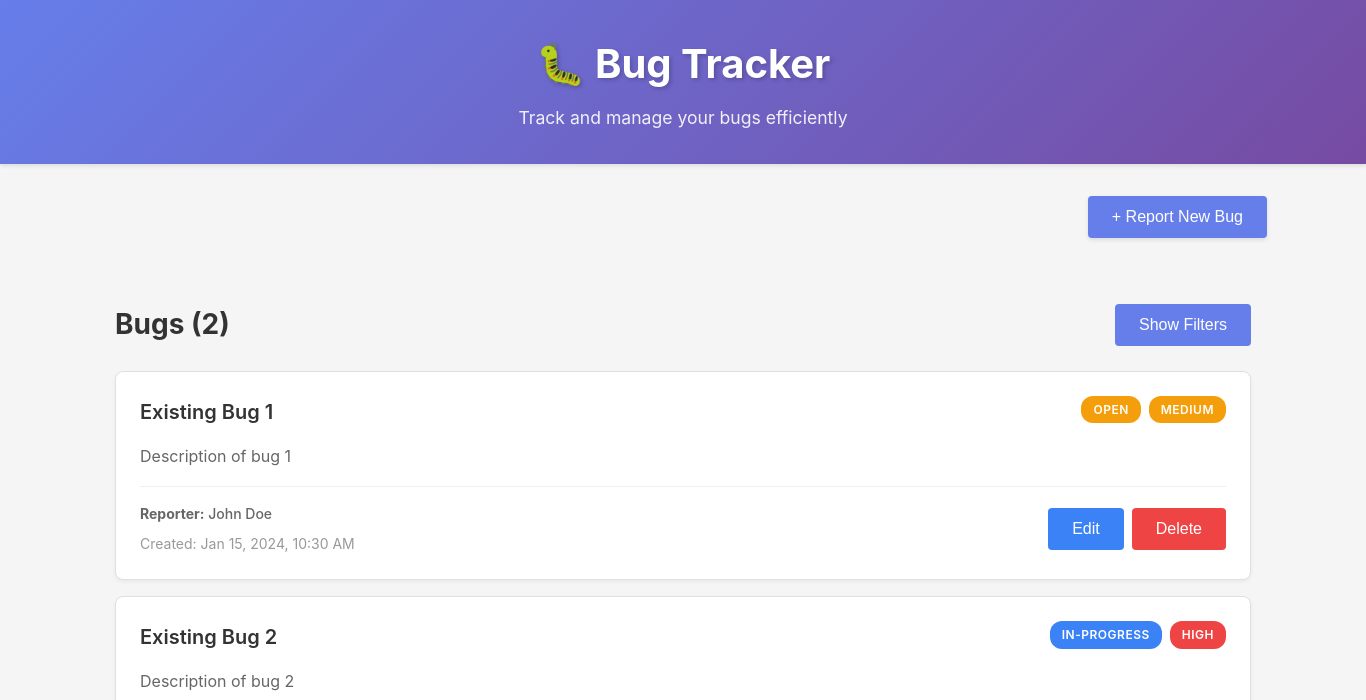
Test: Bug Workflow Integration Tests › User Flow: Fill and Submit Bug Report Form › should show validation errors when form is submitted with invalid data
This screenshot has width=1366, height=700.
Check: the heading "Bugs (2)" is shown, box [115, 302, 230, 347]
Click "Report New Bug" button
Click the button "+ Report New Bug". click: click(1177, 217)
box: [1088, 196, 1267, 238]
(page scrolled)
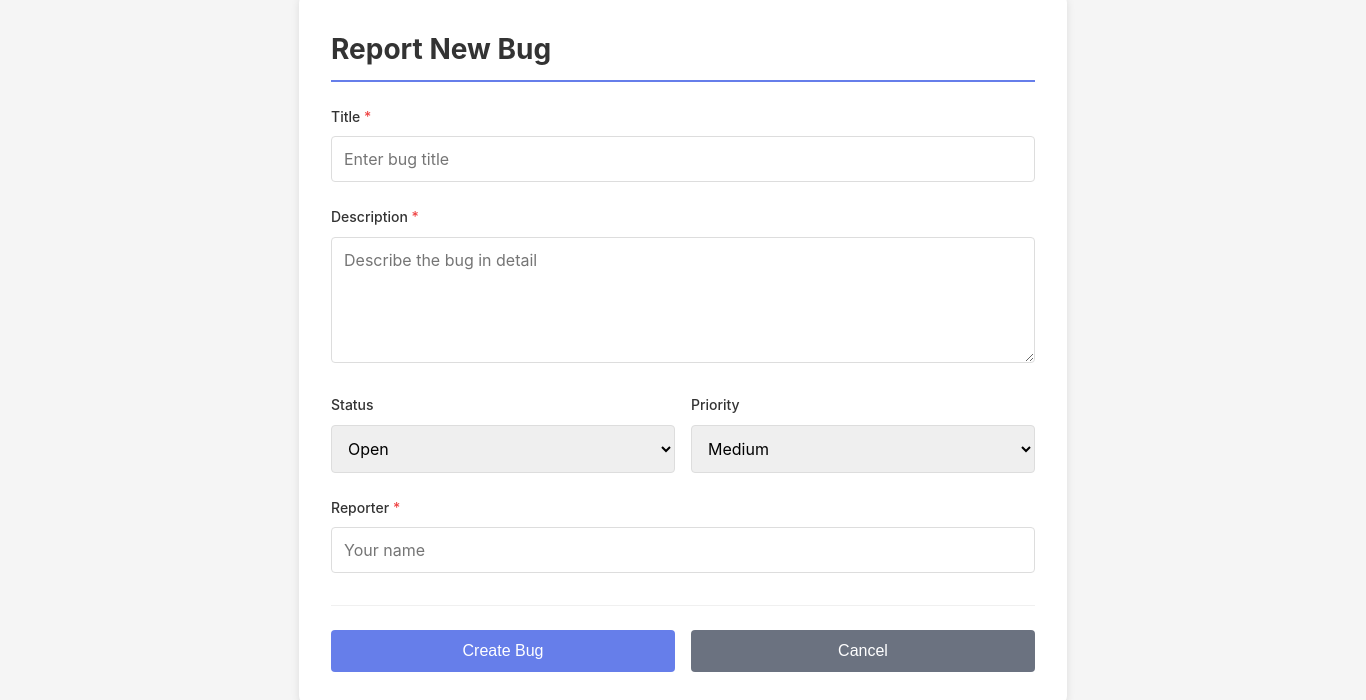
Check: the heading "Report New Bug" is shown, box [331, 27, 1035, 82]
Try to submit empty form
Click the button "Create Bug". click: click(503, 651)
box: [331, 630, 675, 672]
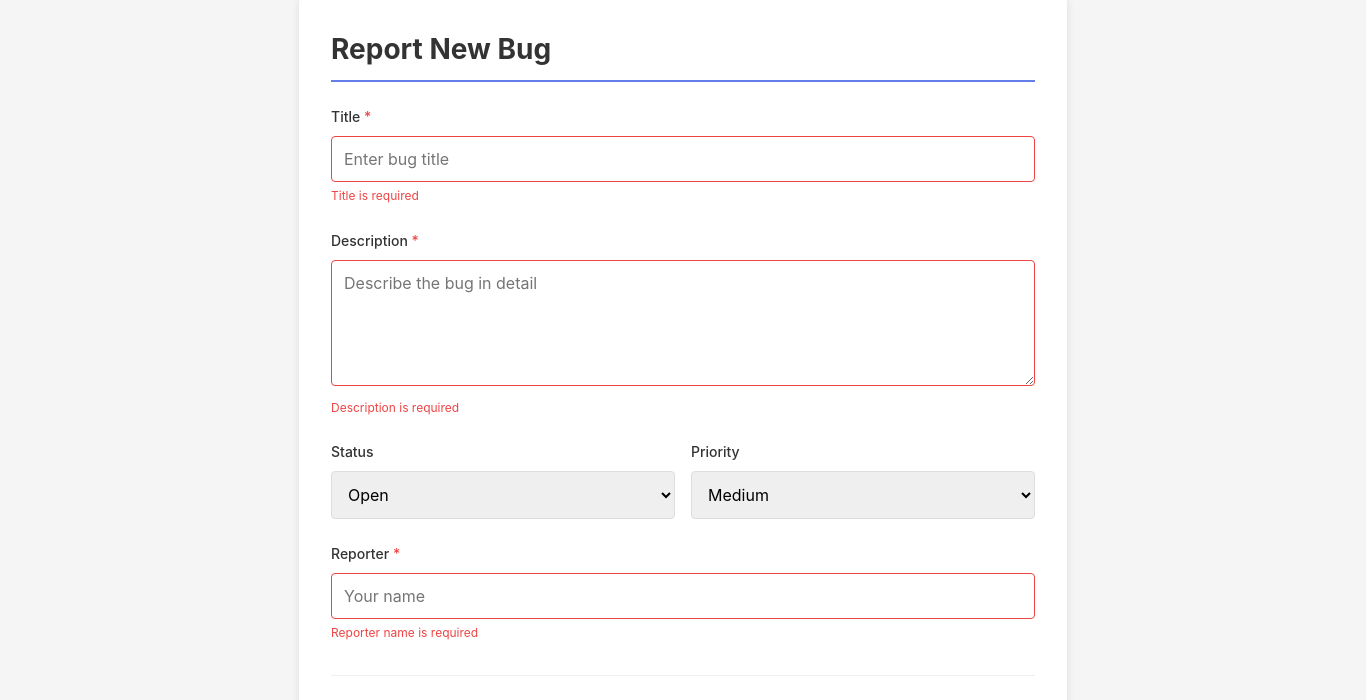
Check: the text "Title is required" is shown, box [331, 188, 419, 203]
Check: the text "Description is required" is shown, box [331, 400, 459, 414]
Check: the text "Reporter name is required" is shown, box [331, 626, 478, 640]
